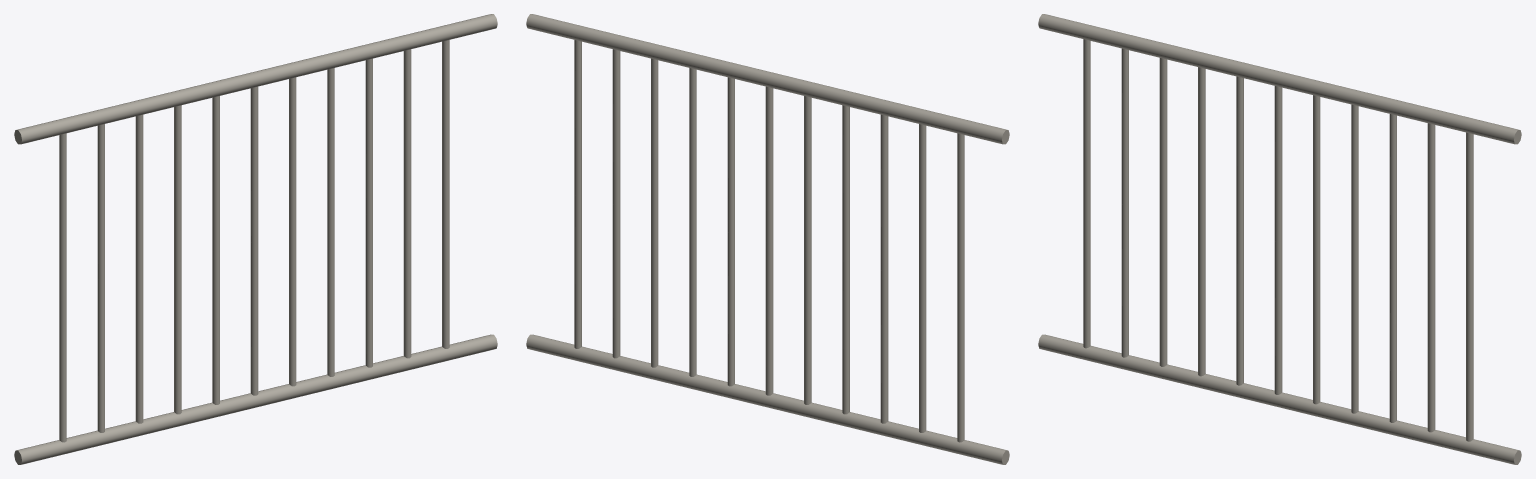
Rendered from fence_connector.fbx.
3 renders of one model, left to right at view 1: azimuth 30°, elevation 25°; view 2: azimuth 150°, elevation 25°; view 3: azimuth 330°, elevation 25°, orthographic.
Visible parts, largest first — view 1: fence_connector; view 2: fence_connector; view 3: fence_connector.
Part boxes in pixels (x1,y1,x2,y2): fence_connector: (14, 14, 497, 464); fence_connector: (526, 14, 1009, 464); fence_connector: (1038, 14, 1521, 464).
Bounding box in the file's own units: 134 × 90.37 × 3.89.
